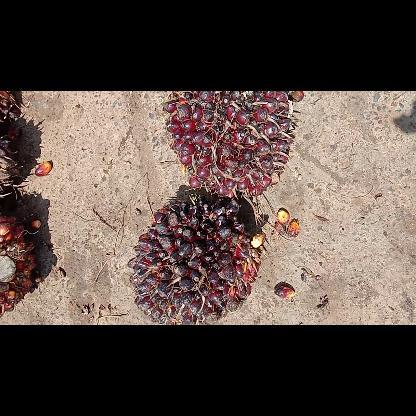Kurang masak: (126, 186, 268, 324), (159, 91, 297, 199)
